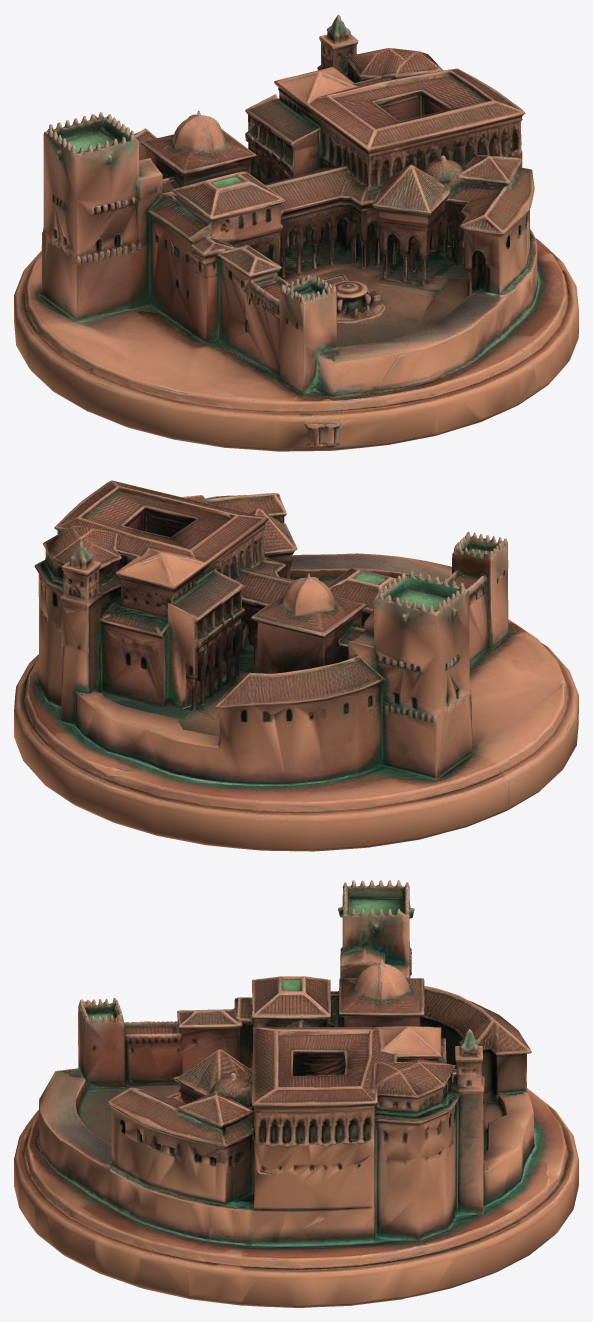
The model's file is alhambra.glb.
3 views of the same model, one above another, from view 1: azimuth 30°, elevation 25°; view 2: azimuth 150°, elevation 25°; view 3: azimuth 270°, elevation 25° (orthographic).
Parts seen in each view (by area): view 1: Mesh_0; view 2: Mesh_0; view 3: Mesh_0.
Part boxes in pixels (box(x1,y1,x2,y2)): Mesh_0: box(14, 14, 578, 451); Mesh_0: box(14, 480, 578, 851); Mesh_0: box(14, 880, 578, 1307).
Bounding box in the file's own units: 1.91 × 0.8422 × 1.91.
Materials: 1 (1 with a texture image).
